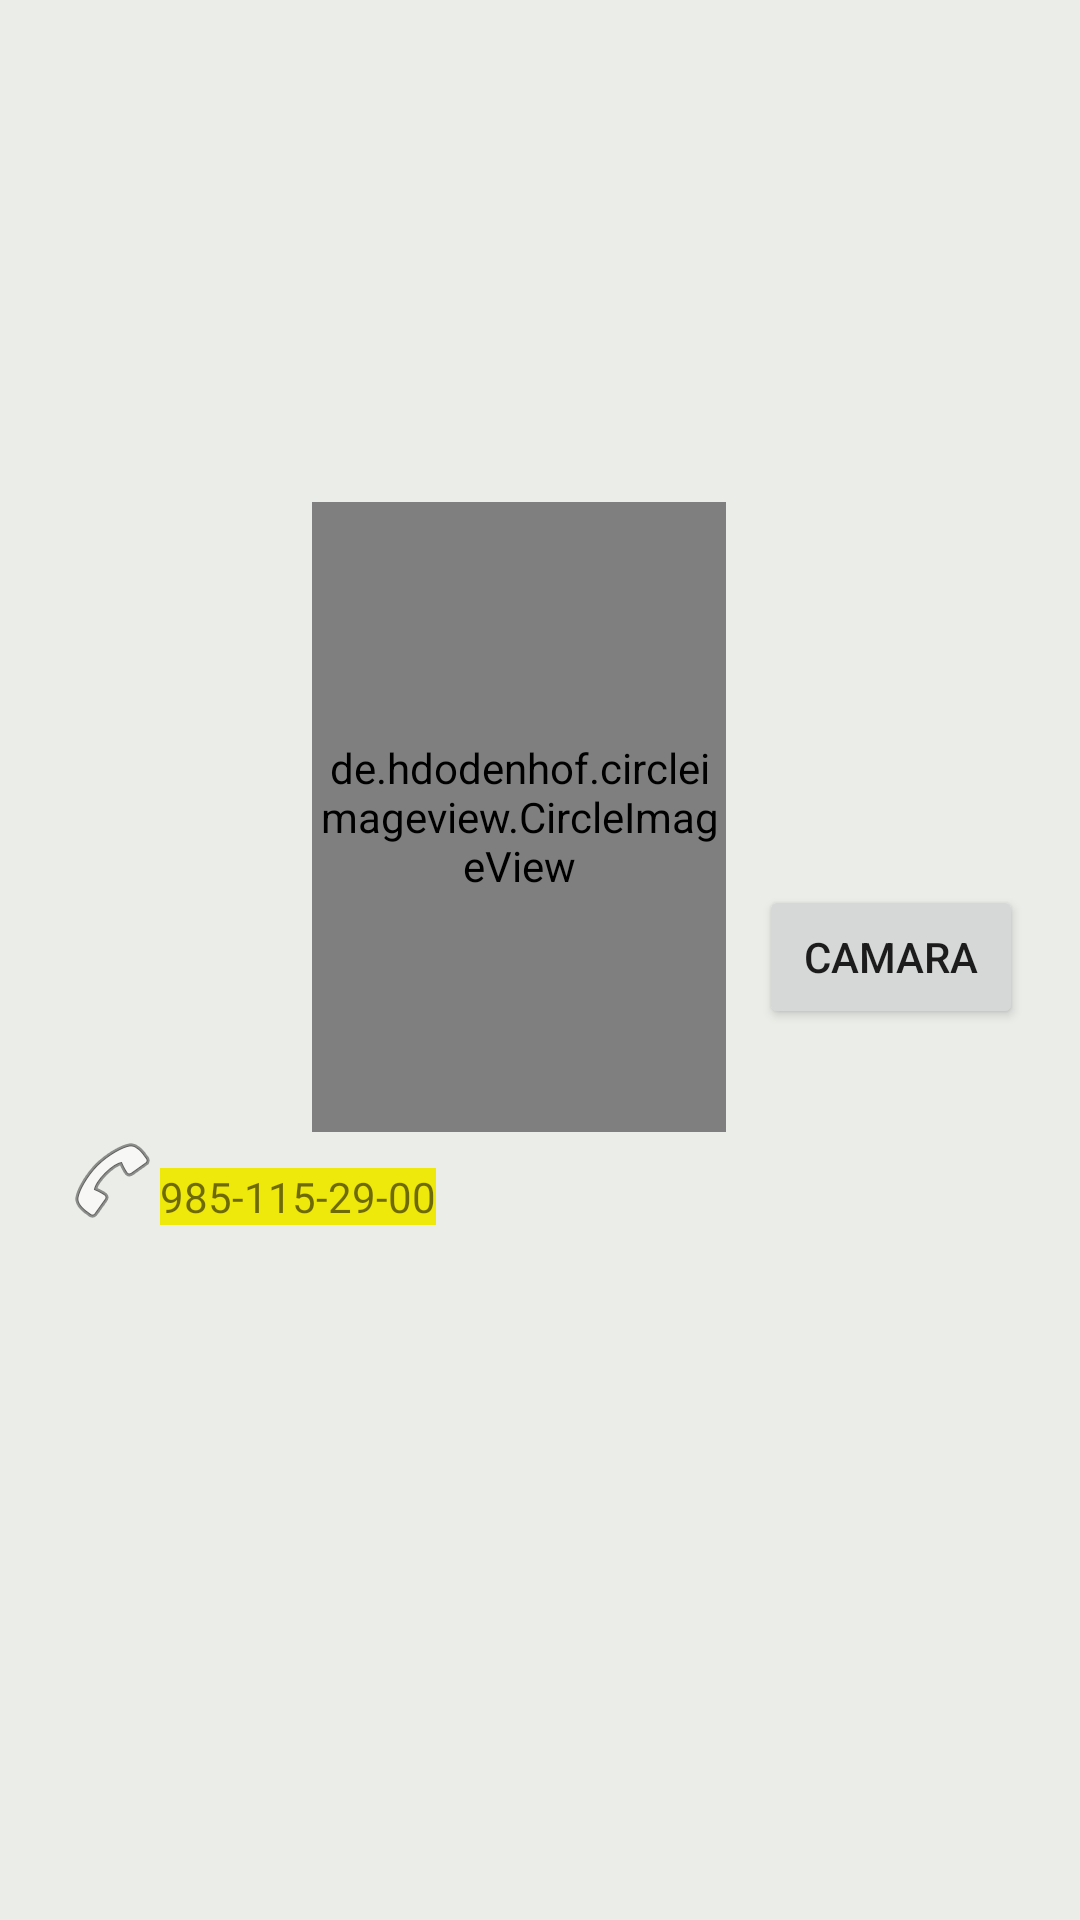

Locate icon controls on the screen. Image size 1080px x 1920px, boxes as bbox=(x1, y1, x2, y2).
call: bbox=(75, 1143, 150, 1218)
